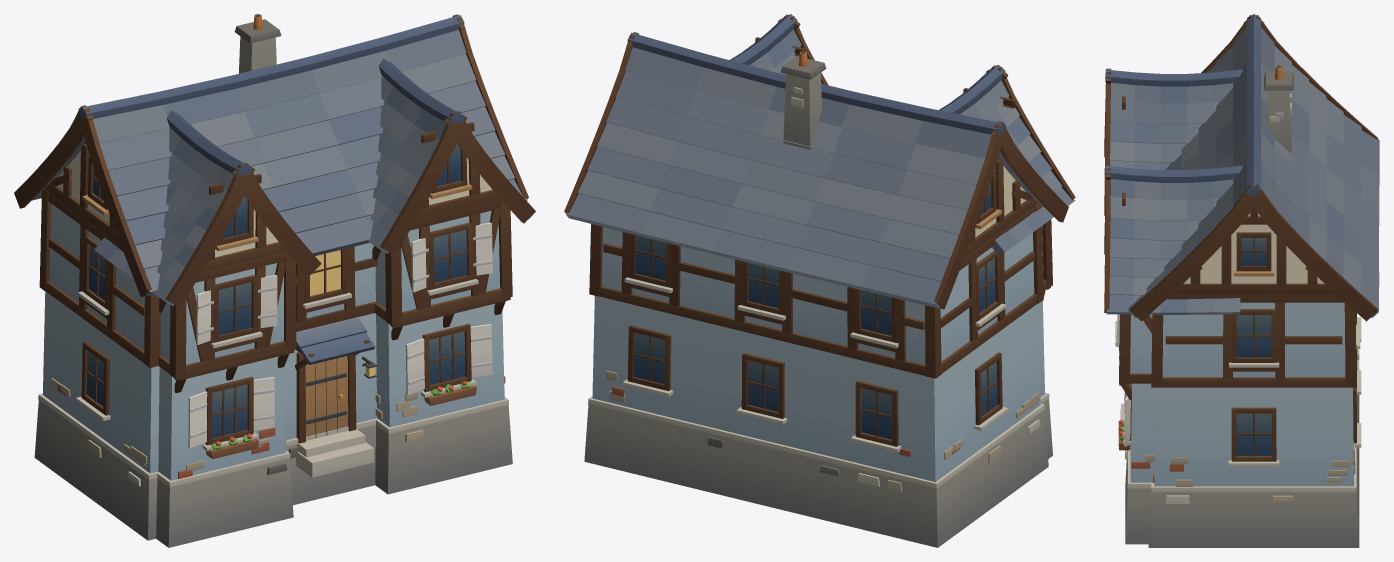
Rendered from house_09_twin_gable.glb.
3 views of the same model, side by side, from view 1: azimuth 30°, elevation 25°; view 2: azimuth 150°, elevation 25°; view 3: azimuth 270°, elevation 25° (orthographic). The views are drawn at different scales.
Parts seen in each view (by area): view 1: house_09_twin_gable; view 2: house_09_twin_gable; view 3: house_09_twin_gable.
Boxes of the visible parts, bbox=[...] form: house_09_twin_gable: bbox=[14, 14, 535, 547]; house_09_twin_gable: bbox=[564, 14, 1075, 547]; house_09_twin_gable: bbox=[1104, 14, 1379, 547].
Size of the model in its own units: 36.09 by 38.8 by 24.24.
Materials: 1 (1 with a texture image).
